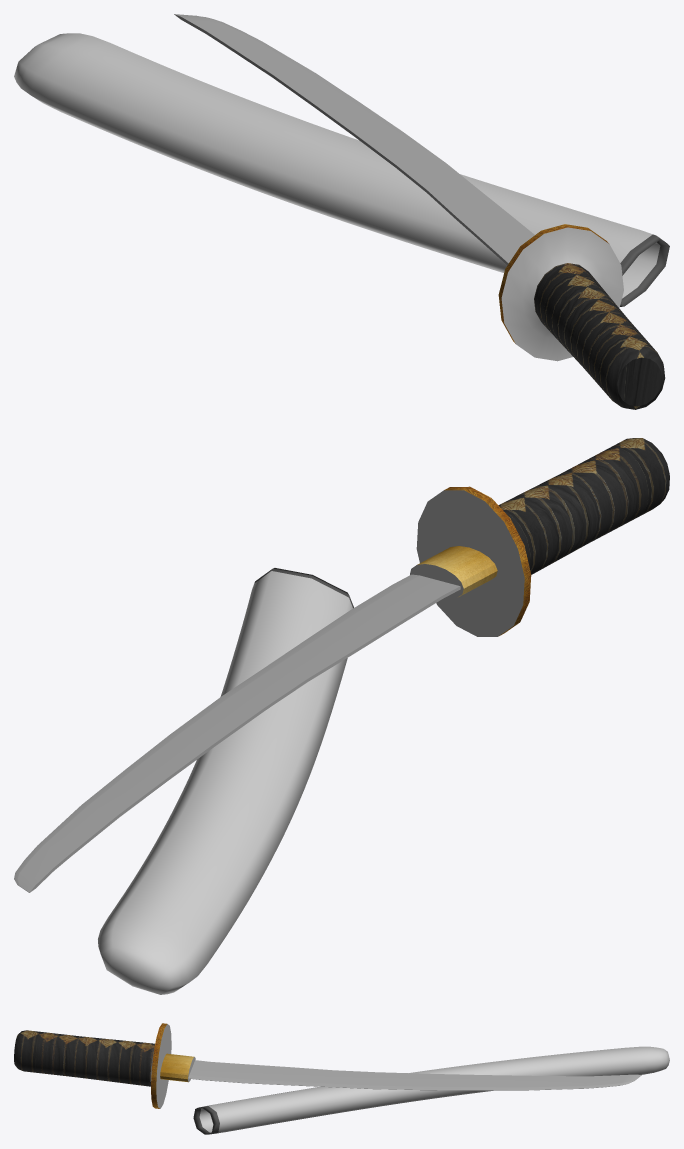
The model's file is Sword FBX.fbx.
The picture shows the model from 3 angles, top to bottom: view 1: azimuth 30°, elevation 25°; view 2: azimuth 150°, elevation 25°; view 3: azimuth 270°, elevation 25°; orthographic projection. The views are drawn at different scales.
Visible parts, largest first — view 1: sword_cover, Hand_grip, Sharp_Blade; view 2: sword_cover, Hand_grip, Sharp_Blade; view 3: sword_cover, Hand_grip, Sharp_Blade.
Boxes of the visible parts, bbox=[...] form: sword_cover: bbox=[14, 33, 669, 306]; Hand_grip: bbox=[498, 224, 665, 409]; Sharp_Blade: bbox=[174, 14, 534, 265]; sword_cover: bbox=[98, 568, 353, 994]; Hand_grip: bbox=[410, 438, 669, 636]; Sharp_Blade: bbox=[14, 574, 460, 892]; sword_cover: bbox=[193, 1046, 669, 1134]; Hand_grip: bbox=[14, 1023, 195, 1108]; Sharp_Blade: bbox=[188, 1060, 641, 1090].
Size of what is drawn, in the model's own units: 7.77 by 3.33 by 24.65.
